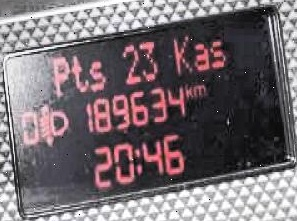0: (113, 140, 134, 183), (20, 110, 37, 145)
1: (84, 100, 93, 133)
2: (120, 41, 140, 85), (92, 145, 111, 188)
3: (138, 38, 158, 80), (149, 85, 166, 121)
4: (140, 137, 162, 173), (166, 83, 185, 115)
6: (161, 131, 182, 175), (129, 88, 148, 123)
8: (91, 96, 110, 130)
9: (110, 92, 129, 128)
X: (171, 31, 192, 75), (51, 55, 68, 95), (70, 53, 87, 90), (87, 60, 106, 90), (193, 42, 209, 72), (209, 38, 225, 68), (192, 82, 205, 97), (134, 146, 140, 175), (184, 82, 193, 98)
